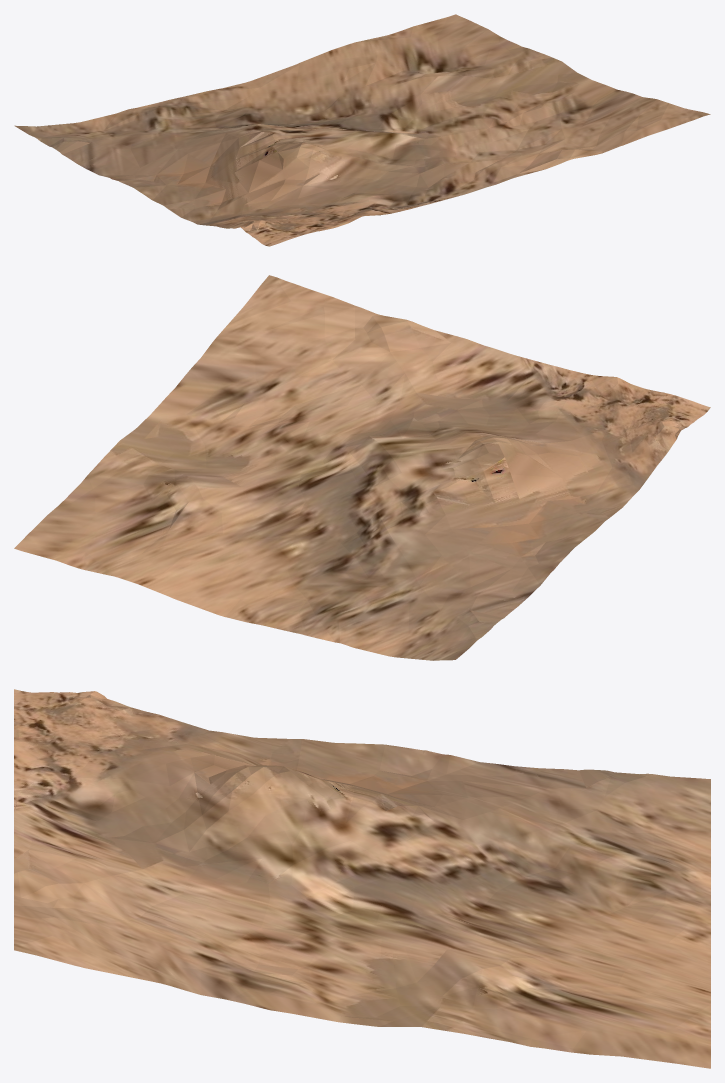
The picture shows the model from 3 angles, top to bottom: view 1: azimuth 30°, elevation 25°; view 2: azimuth 150°, elevation 25°; view 3: azimuth 270°, elevation 25°; orthographic projection. The views are drawn at different scales.
Size of the model in its own units: 1.04 by 0.2343 by 1.04.
Materials: 2 (2 with a texture image).
